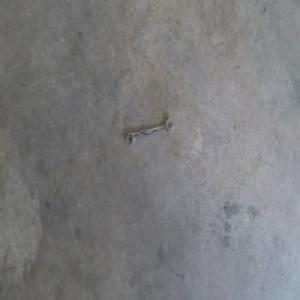Wrench: (124, 118, 173, 148)
